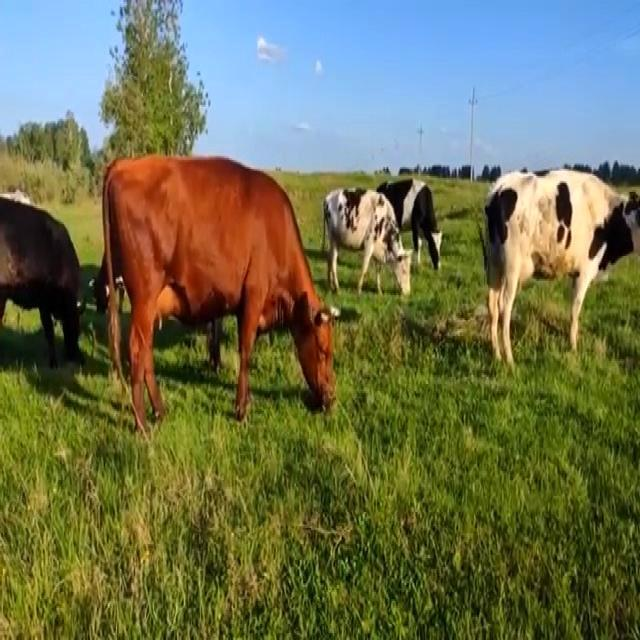COW: (95, 156, 335, 430), (484, 169, 640, 363), (0, 198, 81, 366), (325, 180, 439, 293)
